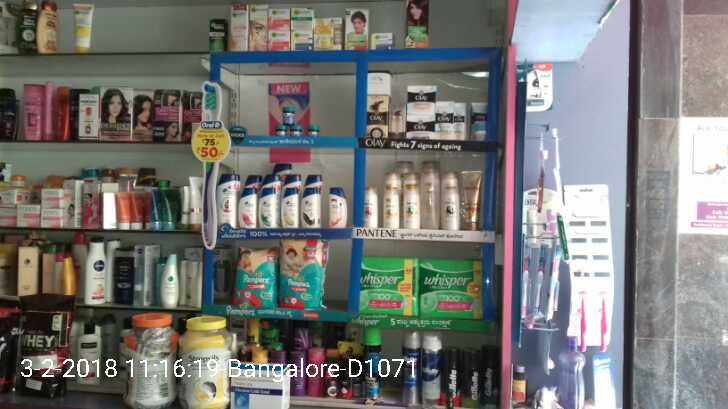beauty: (439, 170, 461, 231), (400, 175, 419, 230), (327, 184, 348, 230), (299, 187, 323, 227), (280, 184, 300, 231), (404, 84, 434, 115), (238, 189, 259, 229), (471, 98, 489, 144), (382, 175, 396, 231), (437, 99, 454, 141), (259, 188, 275, 231), (407, 116, 434, 138)
pharmacy: (414, 255, 480, 322), (226, 246, 280, 315), (277, 236, 327, 309), (355, 255, 412, 313), (273, 105, 324, 139)
